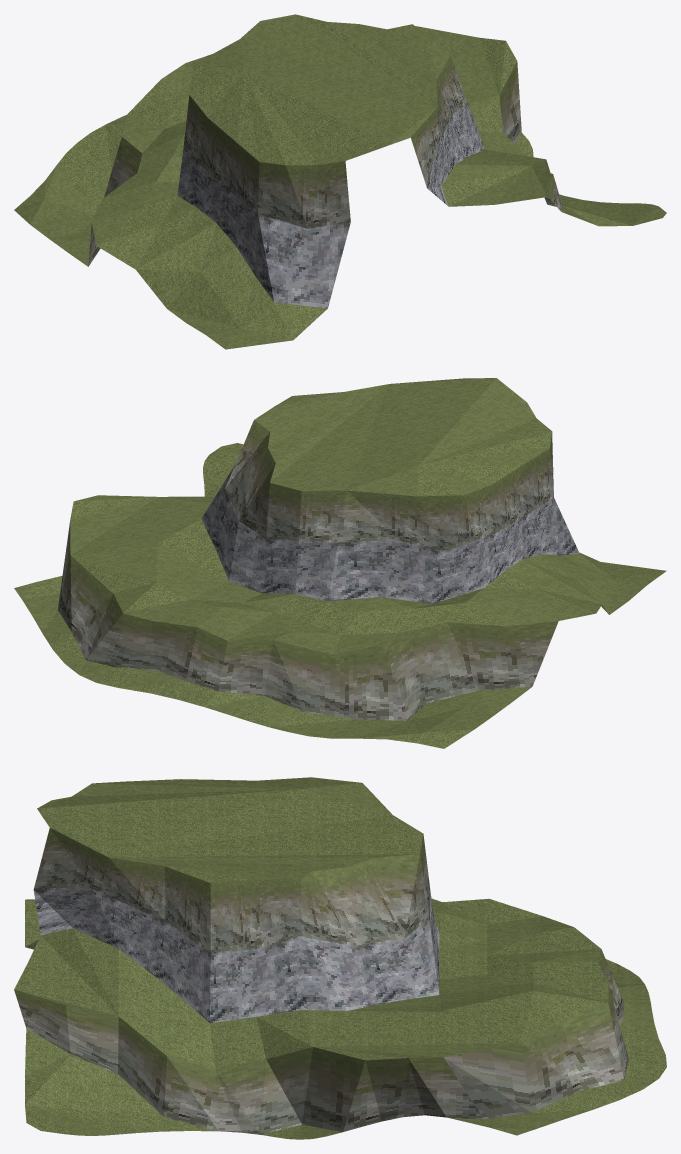
Rendered from lod_cen_bit_01.obj.
3 views of the same model, one above another, from view 1: azimuth 30°, elevation 25°; view 2: azimuth 150°, elevation 25°; view 3: azimuth 270°, elevation 25° (orthographic). The views are drawn at different scales.
Parts seen in each view (by area): view 1: lod_cen_bit_01; view 2: lod_cen_bit_01; view 3: lod_cen_bit_01.
Boxes of the visible parts, <box> form: lod_cen_bit_01: <box>14,14,666,349</box>; lod_cen_bit_01: <box>14,378,666,748</box>; lod_cen_bit_01: <box>14,777,666,1139</box>.
Size of the model in its own units: 253 by 95.5 by 249.
3 materials, 3 textured.
